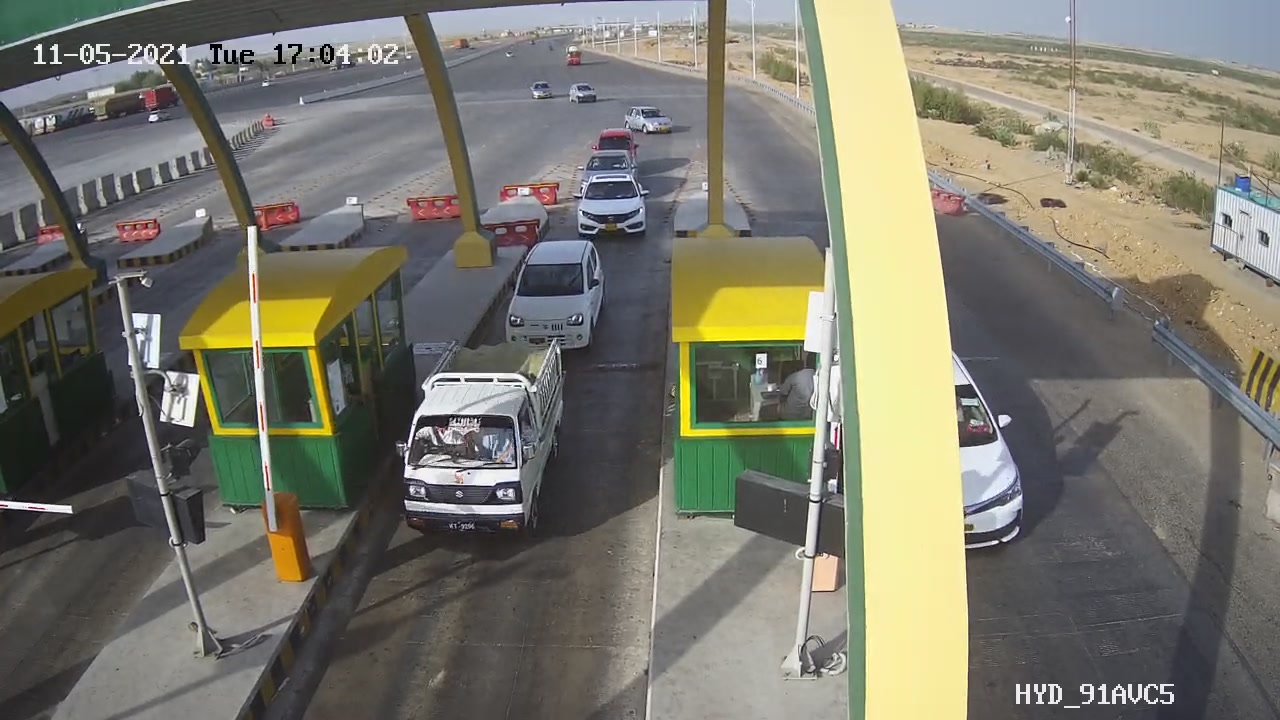F1: (383, 337, 578, 547), (486, 226, 618, 365), (560, 166, 659, 256)
